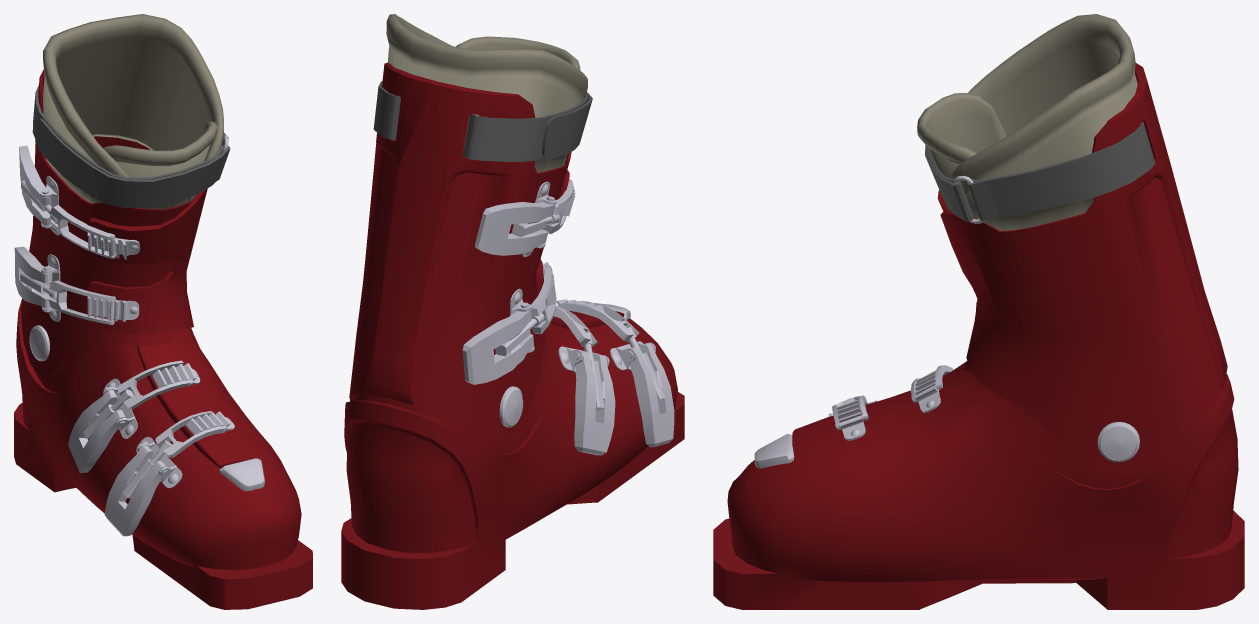
Rendered from AlpineSkiBootA1Mat_right.fbx.
The picture shows the model from 3 angles, left to right: view 1: azimuth 30°, elevation 25°; view 2: azimuth 150°, elevation 25°; view 3: azimuth 270°, elevation 25°; orthographic projection. The views are drawn at different scales.
Visible parts, largest first — view 1: BootBase, BootInternal, BootLeg, Strap2, Bucle.003, Bucle.002, Bucle.001, Bucle.000, BucleC.000, BucleC.001, BucleC.002, BootTip (+10 smaller); view 2: BootBase, BootLeg, BootInternal, Strap2, Bucle.002, Bucle.001, Bucle.000, Bucle.003, Strap1, BucleC.003, BucleC.001, BootAxis (+4 smaller); view 3: BootBase, BootLeg, BootInternal, Strap1, BootAxis, Strap2, BootTip, BucleGrip.003, BucleGrip.002.
Part boxes in pixels (left/top/right/bottom): BootBase: left=14, top=298, right=312, bottom=609; BootInternal: left=43, top=14, right=223, bottom=209; BootLeg: left=21, top=69, right=207, bottom=376; Strap2: left=32, top=85, right=230, bottom=208; Bucle.003: left=104, top=445, right=166, bottom=536; Bucle.002: left=68, top=389, right=125, bottom=472; Bucle.001: left=14, top=246, right=52, bottom=308; Bucle.000: left=19, top=145, right=51, bottom=225; BucleC.000: left=50, top=205, right=115, bottom=258; BucleC.001: left=48, top=280, right=115, bottom=324; BucleC.002: left=117, top=360, right=193, bottom=409; BootTip: left=219, top=458, right=265, bottom=491; BootBase: left=341, top=311, right=684, bottom=609; BootLeg: left=349, top=62, right=571, bottom=445; BootInternal: left=386, top=14, right=587, bottom=172; Strap2: left=463, top=92, right=592, bottom=161; Bucle.002: left=574, top=350, right=615, bottom=455; Bucle.001: left=462, top=309, right=533, bottom=384; Bucle.000: left=475, top=201, right=555, bottom=255; Bucle.003: left=629, top=343, right=674, bottom=447; Strap1: left=373, top=81, right=400, bottom=140; BucleC.003: left=559, top=301, right=639, bottom=342; BucleC.001: left=530, top=265, right=556, bottom=334; BootAxis: left=499, top=386, right=523, bottom=427; BootBase: left=713, top=361, right=1244, bottom=609; BootLeg: left=937, top=63, right=1227, bottom=478; BootInternal: left=917, top=14, right=1137, bottom=230; Strap1: left=967, top=122, right=1155, bottom=220; BootAxis: left=1097, top=422, right=1139, bottom=462; Strap2: left=925, top=145, right=973, bottom=221; BootTip: left=754, top=434, right=794, bottom=468; BucleGrip.003: left=836, top=400, right=865, bottom=440; BucleGrip.002: left=914, top=371, right=940, bottom=412.
Bounding box in the file's own units: 1032 × 2773 × 2511.
